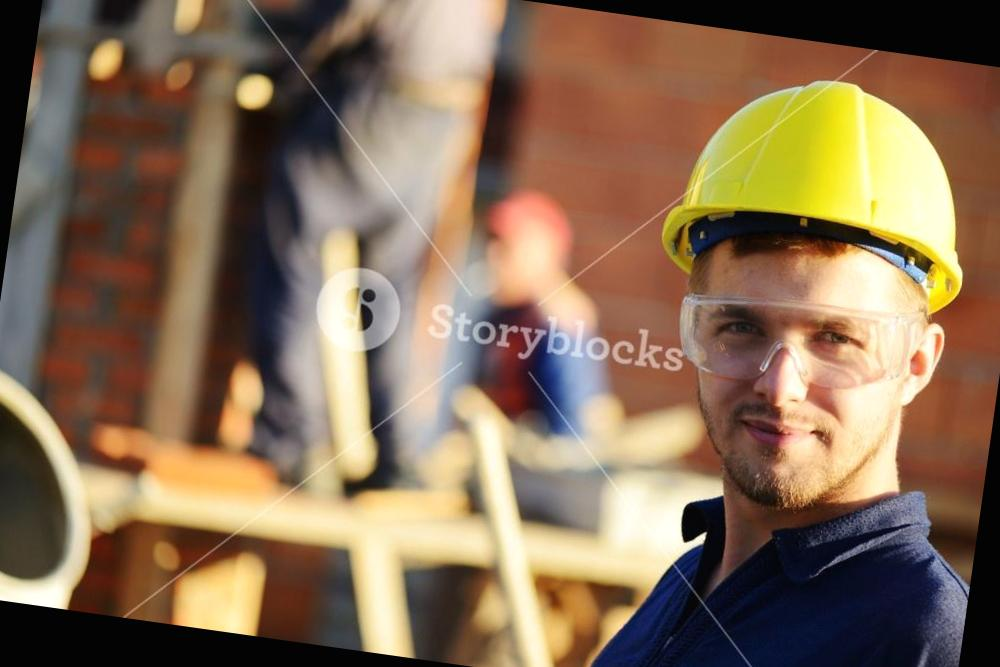helmet: (650, 60, 993, 323)
person: (556, 58, 1000, 667)
